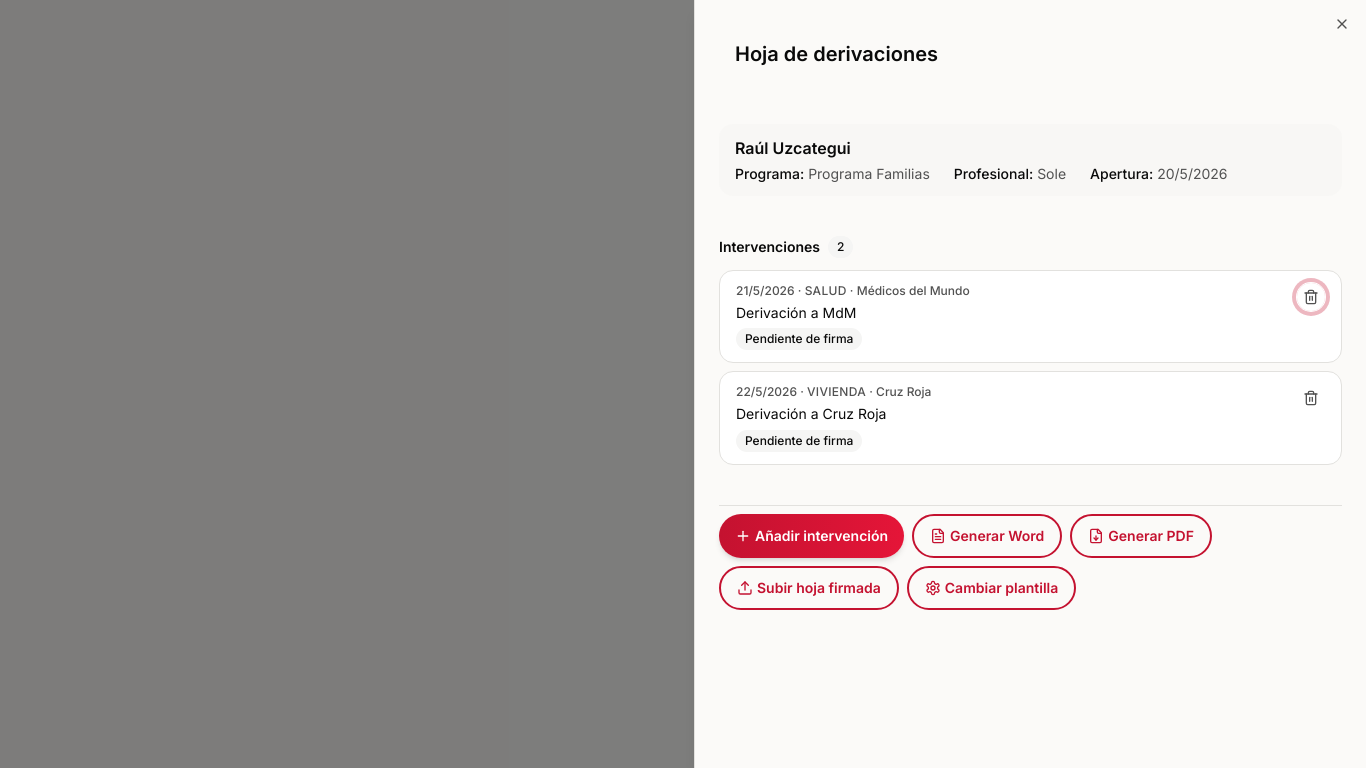
Test: HojaDrawer — Upload signed hoja (Batch 20) › opens upload signed hoja modal when button is clicked
This screenshot has width=1366, height=768.
Click the button "Subir hoja firmada": (809, 588) x1=719 y1=566 x2=899 y2=610
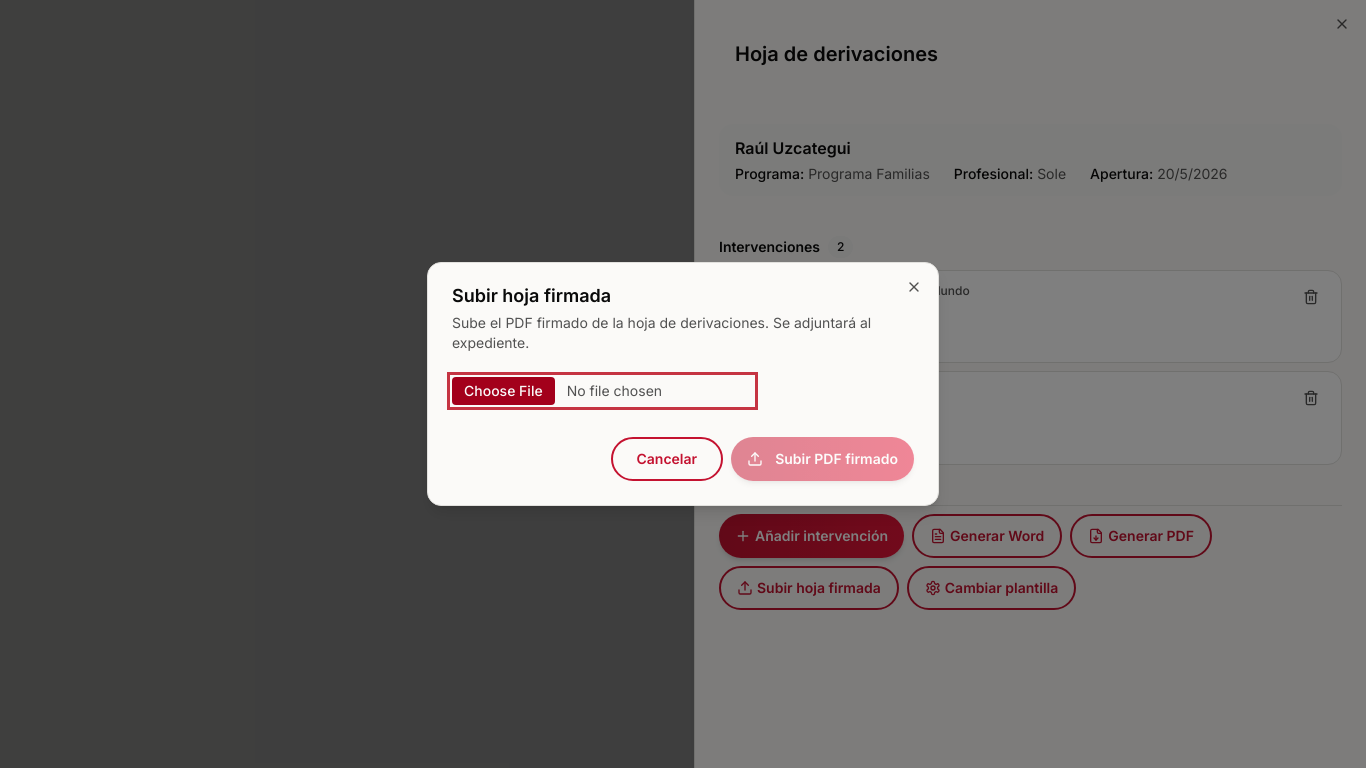
Check: the dialog "Subir hoja firmada" is shown, box x1=427 y1=262 x2=939 y2=506
